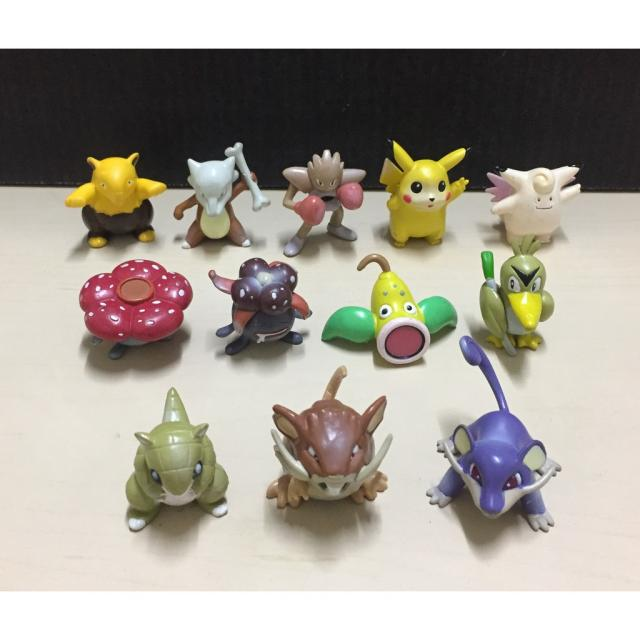Clefable: (488, 161, 582, 251)
Cubone: (178, 153, 252, 250)
Drowzee: (74, 153, 156, 250)
Farfetchd: (476, 246, 556, 356)
Gloom: (216, 257, 308, 359)
Hitmonchan: (282, 142, 364, 255)
Pikachu: (380, 148, 464, 245)
Rattata: (437, 409, 550, 522)
Sandshrew: (120, 403, 231, 534)
Vileplume: (80, 257, 191, 362)
Weepinbell: (358, 259, 435, 366)
